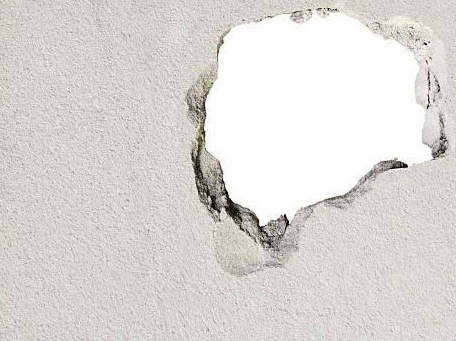Spalling: (183, 6, 451, 252)
